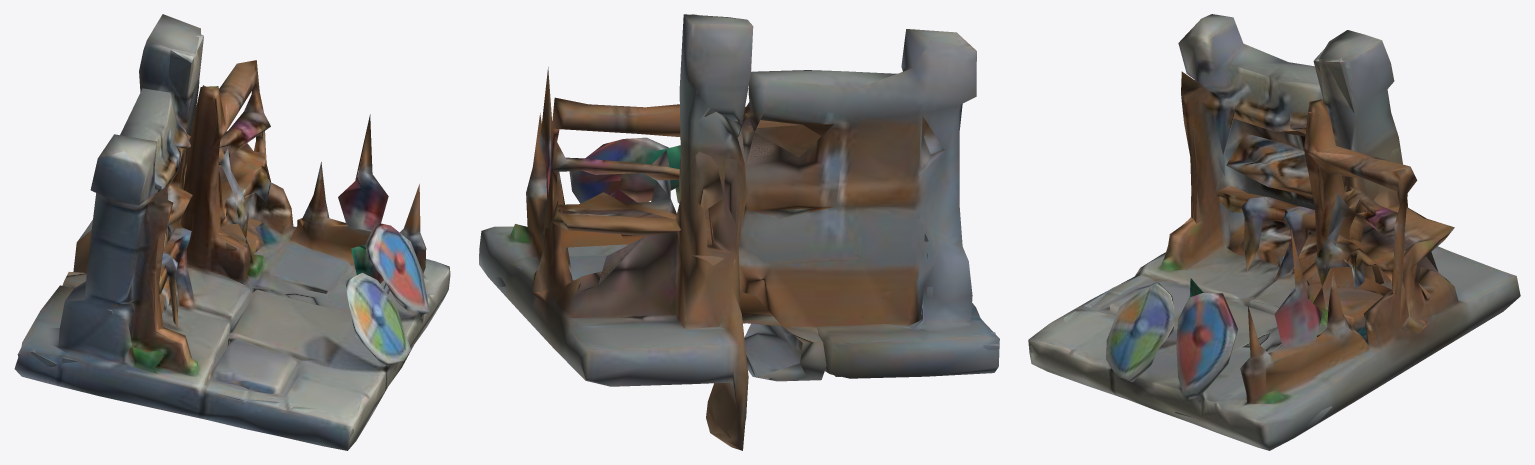
File: armoury.glb
The picture shows the model from 3 angles, left to right: view 1: azimuth 30°, elevation 25°; view 2: azimuth 150°, elevation 25°; view 3: azimuth 270°, elevation 25°; orthographic projection. The views are drawn at different scales.
Parts seen in each view (by area): view 1: level; view 2: level; view 3: level.
Part boxes in pixels (x1=…): level: x1=14, y1=14, x2=450, y2=450; level: x1=479, y1=14, x2=999, y2=450; level: x1=1028, y1=14, x2=1520, y2=450.
Bounding box in the file's own units: 0.918 × 0.6749 × 0.8982.
1 material, 1 textured.
